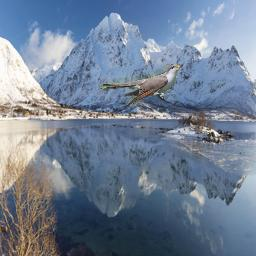Cuckoo: (100, 64, 180, 105)
